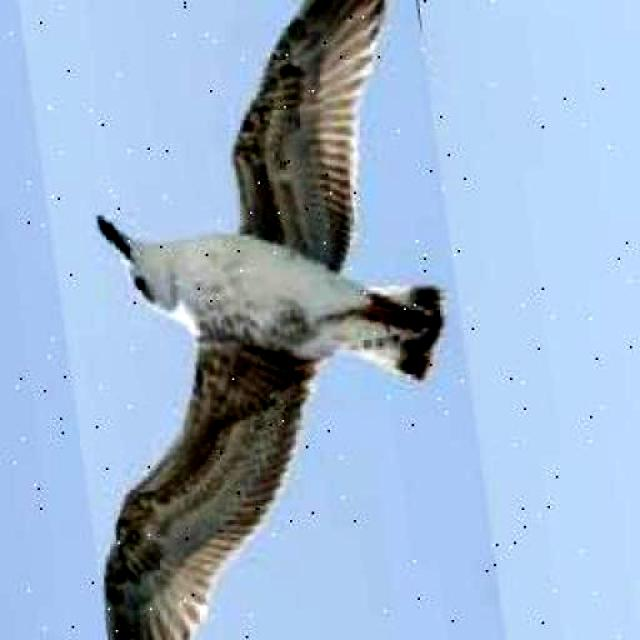airplane: (14, 0, 512, 640)
